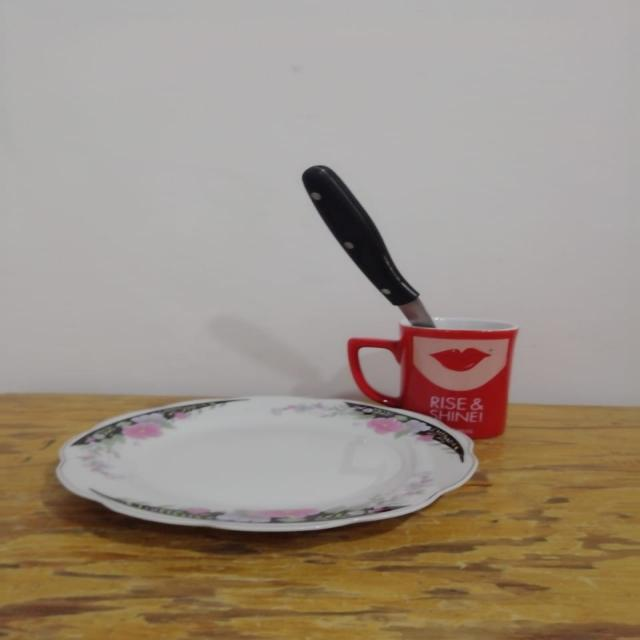non-organic waste: (50, 385, 485, 558)
